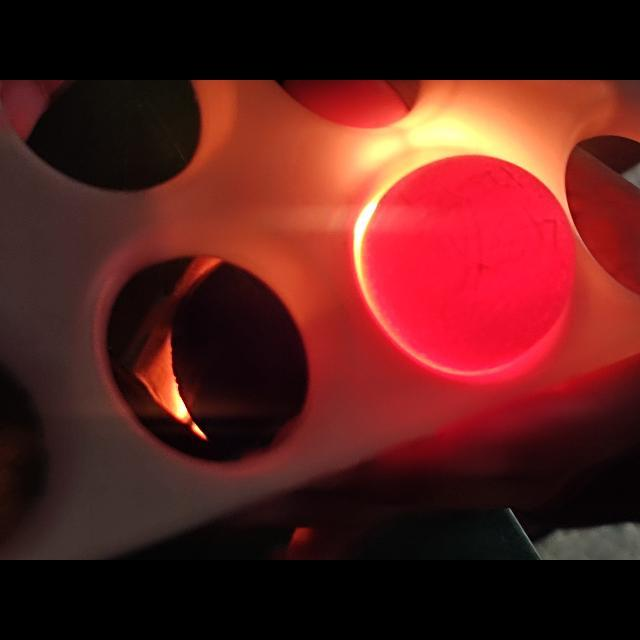Infertile: (359, 148, 571, 376)
